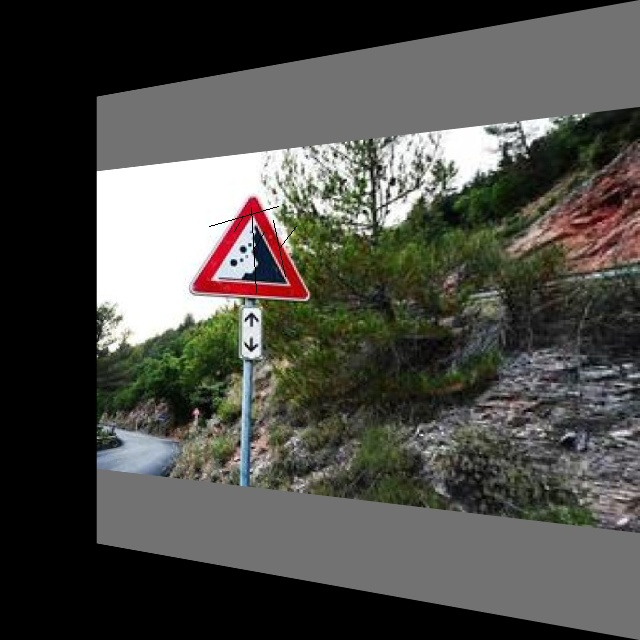Falling_Rocks: (184, 192, 314, 301)
